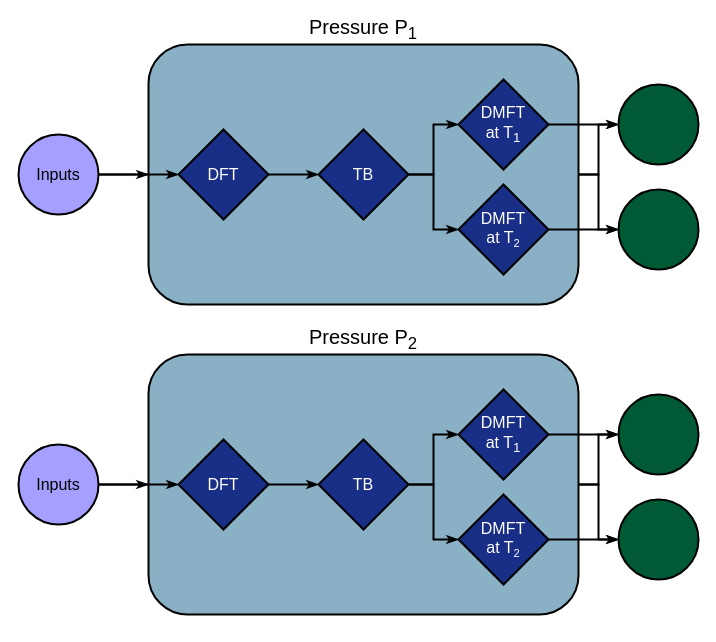
Image size: 716x642. Some labels were removed from this diagram. The shapes that lost their labels are listed below. From the top down, each one's centre as x and y in pixels, then its label:
At [658,124]: "Outputs (P 1 , T 1 )".
At [658,229]: "Outputs (P 1 , T 2 )".
At [658,434]: "Outputs (P 2 , T 1 )".
At [658,539]: "Outputs (P 2 , T 2 )".
